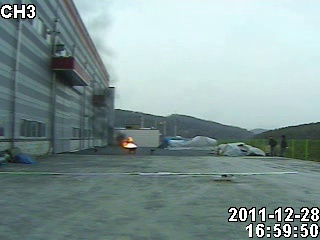fire: (118, 137, 139, 150)
